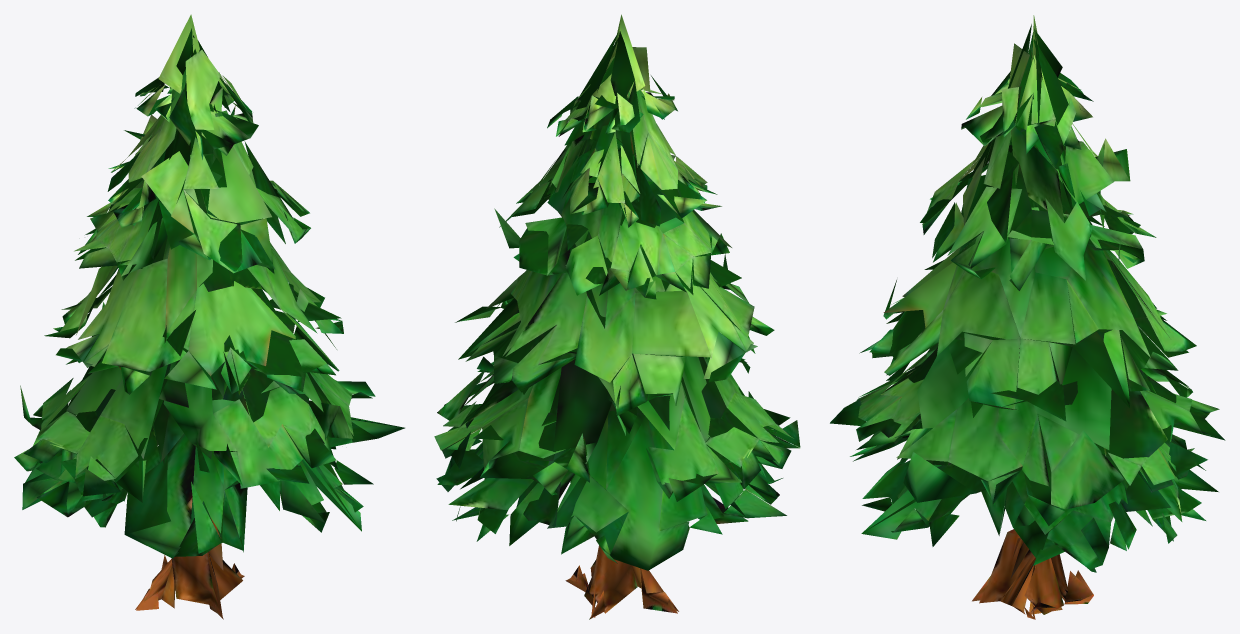
Rendered from tree-pine-lod1.glb.
3 renders of one model, left to right at view 1: azimuth 30°, elevation 25°; view 2: azimuth 150°, elevation 25°; view 3: azimuth 270°, elevation 25°, orthographic.
Parts seen in each view (by area): view 1: tree-pine; view 2: tree-pine; view 3: tree-pine.
Part boxes in pixels (x1,y1,x2,y2): tree-pine: [14, 14, 404, 619]; tree-pine: [434, 14, 800, 619]; tree-pine: [830, 15, 1225, 619].
Bounding box in the file's own units: 4.51 × 7.59 × 4.63.
1 material, 1 textured.
